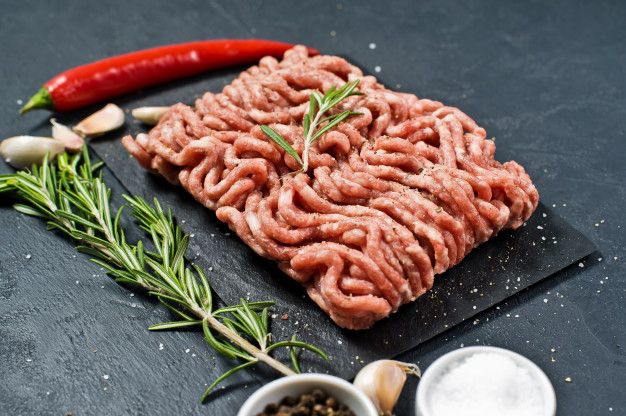ground_beef: (130, 41, 525, 303)
